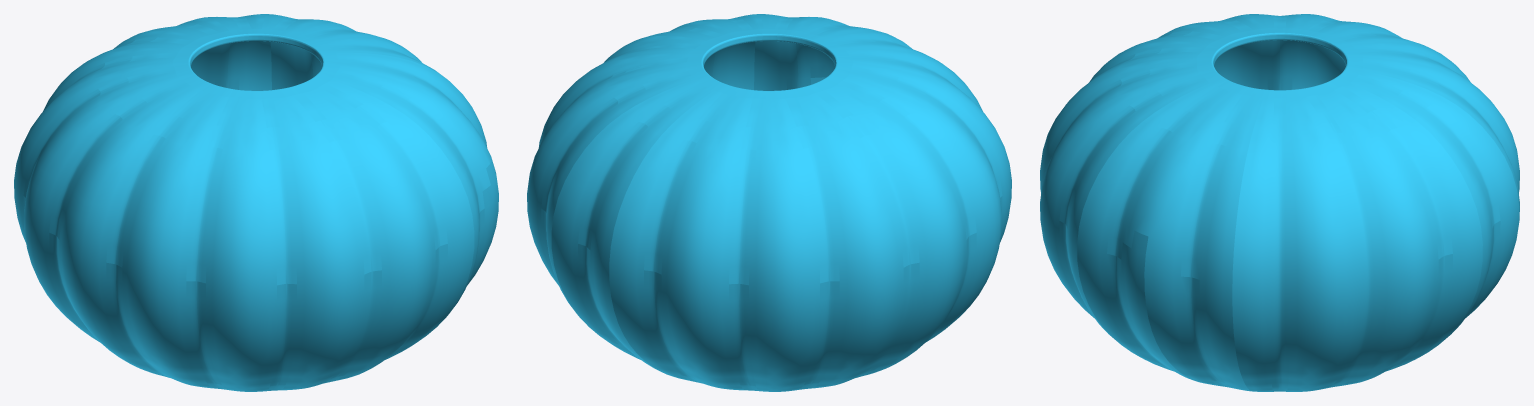
File: jarron2.glb
3 views of the same model, side by side, from view 1: azimuth 30°, elevation 25°; view 2: azimuth 150°, elevation 25°; view 3: azimuth 270°, elevation 25° (orthographic).
Visible parts, largest first — view 1: jarron2; view 2: jarron2; view 3: jarron2.
Boxes of the visible parts, x1,y1,x2,y2 form: jarron2: (14, 14, 498, 391); jarron2: (527, 14, 1011, 391); jarron2: (1040, 14, 1519, 391).
Bounding box in the file's own units: 0.248 × 0.159 × 0.248.
